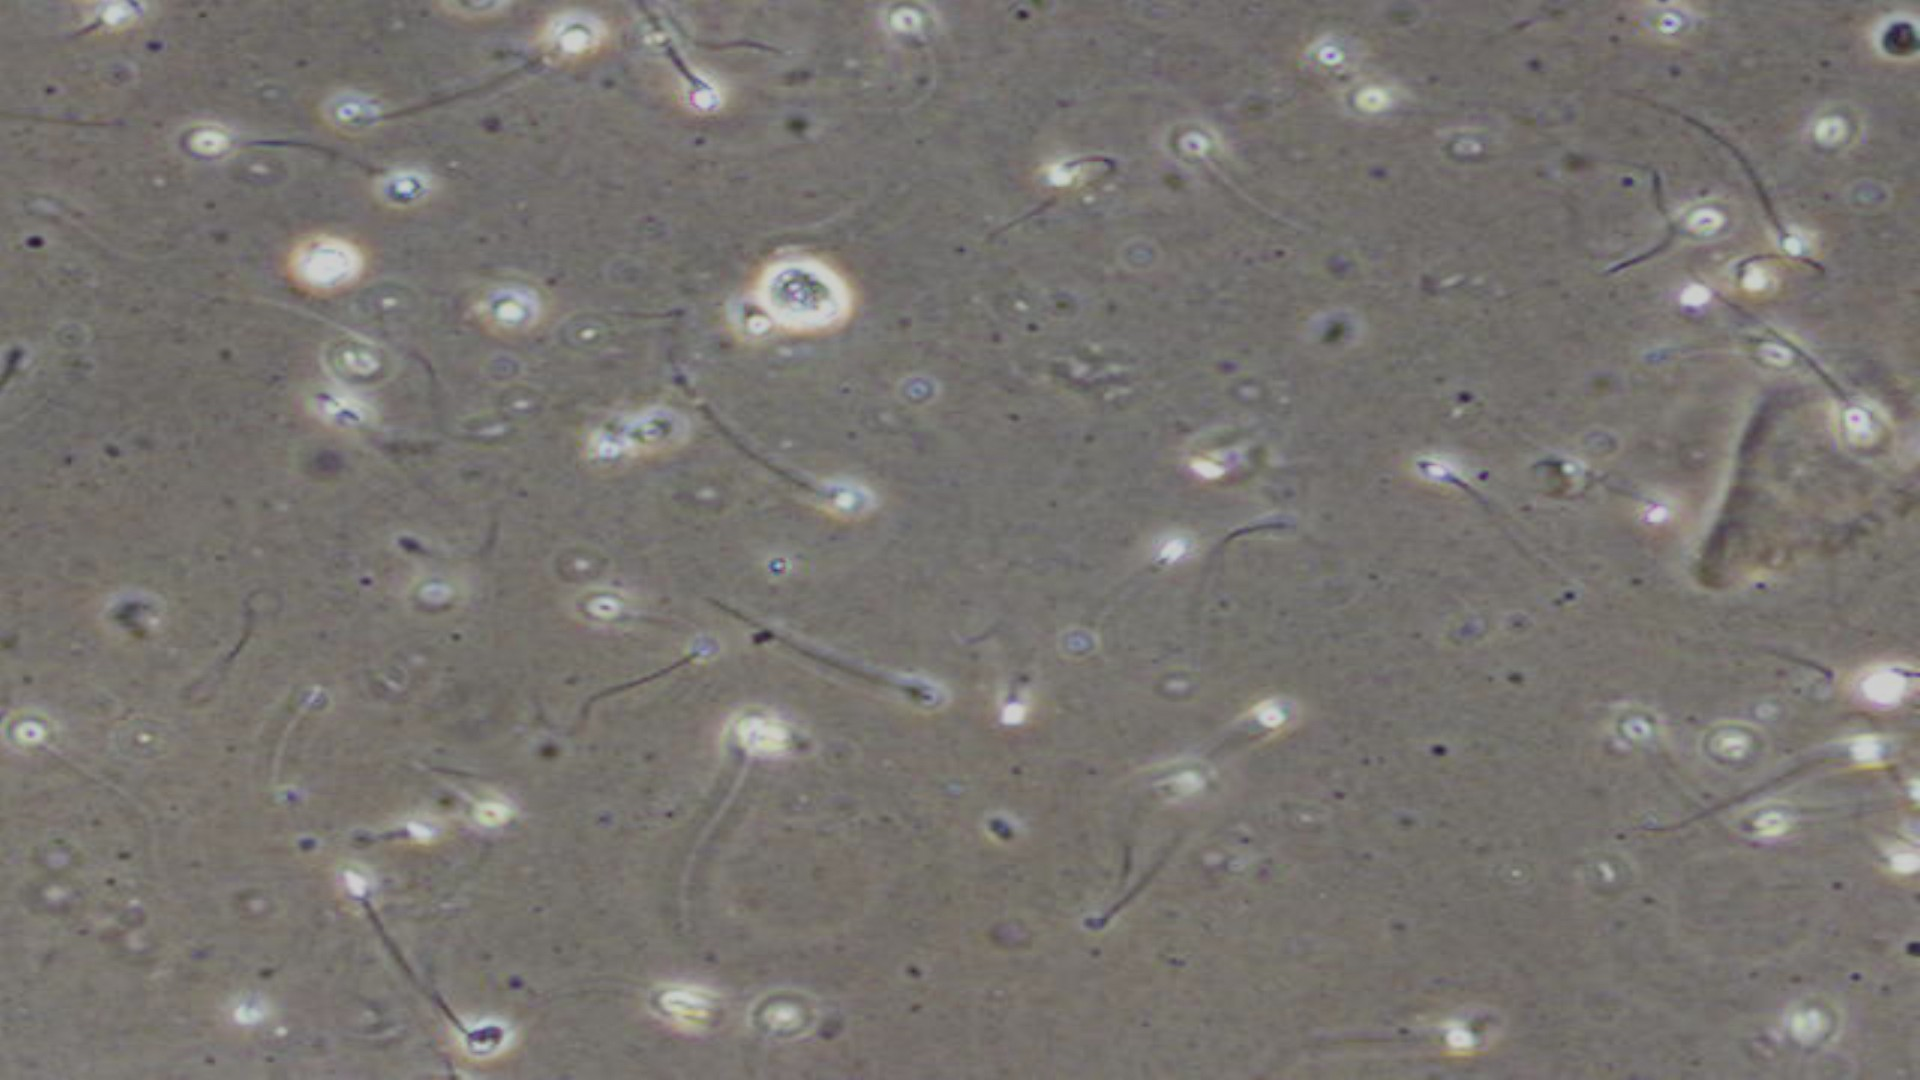sperm: (1695, 124, 1807, 252), (328, 856, 433, 992), (746, 438, 886, 531), (1408, 429, 1499, 546), (1009, 156, 1122, 241), (589, 632, 721, 700), (647, 13, 731, 117), (185, 124, 335, 181), (1168, 128, 1254, 202), (1593, 459, 1677, 531)
